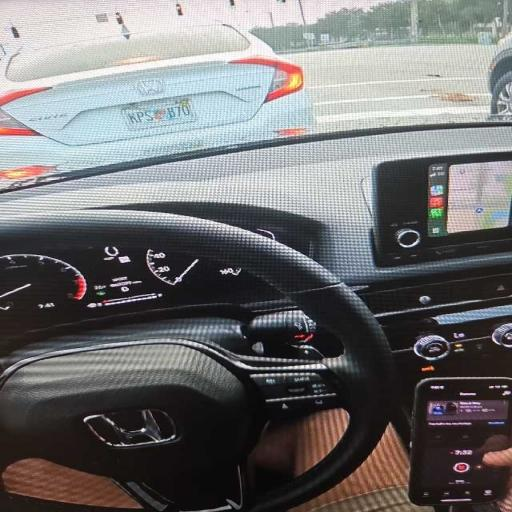car: (0, 0, 511, 511), (0, 23, 312, 177), (488, 35, 511, 118)
lane: (290, 45, 495, 129), (308, 79, 487, 103), (317, 107, 487, 124), (308, 77, 482, 90), (314, 95, 435, 106)
